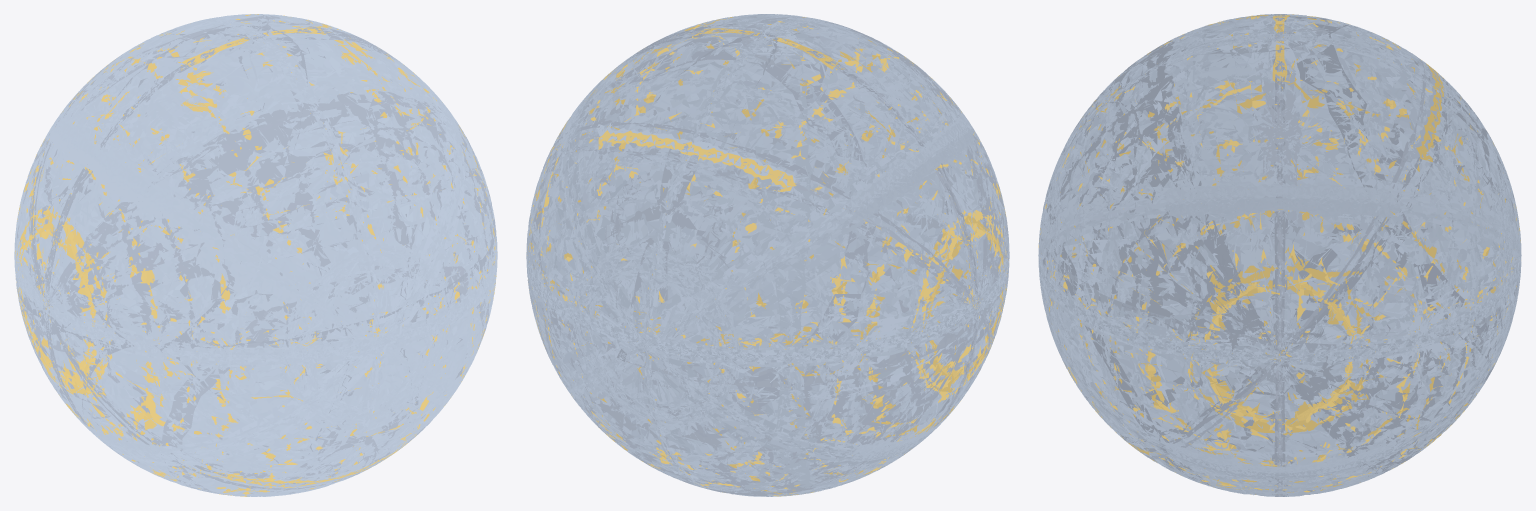
The model's file is row-2.glb.
3 views of the same model, side by side, from view 1: azimuth 30°, elevation 25°; view 2: azimuth 150°, elevation 25°; view 3: azimuth 270°, elevation 25° (orthographic).
Parts seen in each view (by area): view 1: row_2, structure, anodes; view 2: row_2, structure, anodes; view 3: row_2, structure, anodes.
Part boxes in pixels (x1,y1,x2,y2): row_2: (14,14,497,496); structure: (15,15,496,493); anodes: (15,14,496,496); row_2: (526,14,1009,496); structure: (527,16,1009,496); anodes: (527,17,1008,496); row_2: (1038,14,1521,496); structure: (1039,14,1520,496); anodes: (1038,14,1520,494).
Size of the model in its own units: 2 by 2 by 2.
